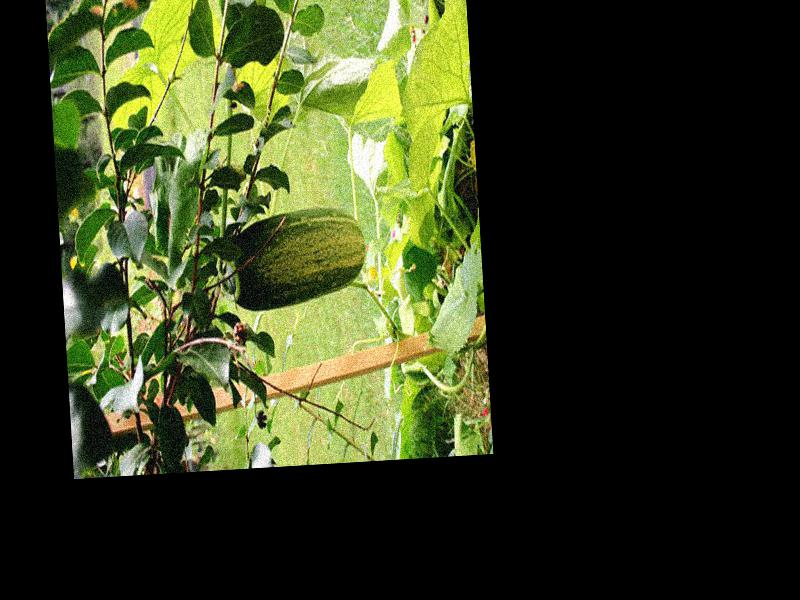Cucumber: (215, 207, 369, 315)
